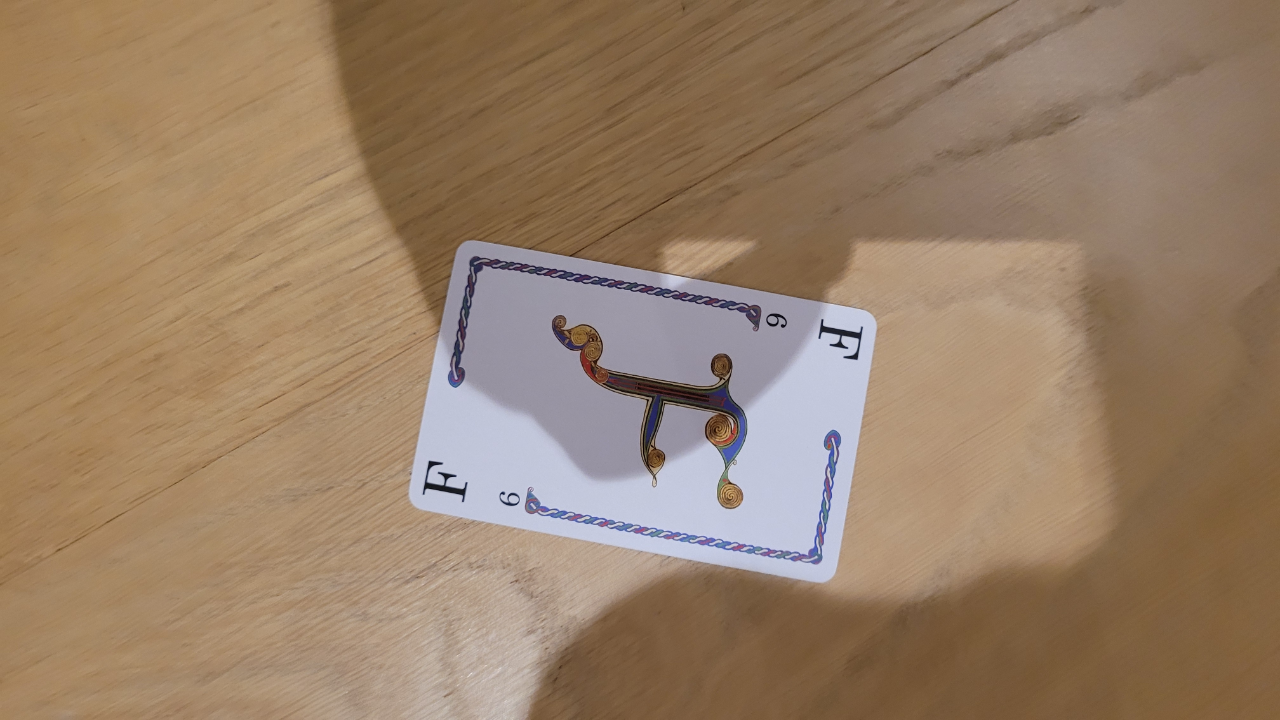quiddler_card: (395, 204, 895, 595)
